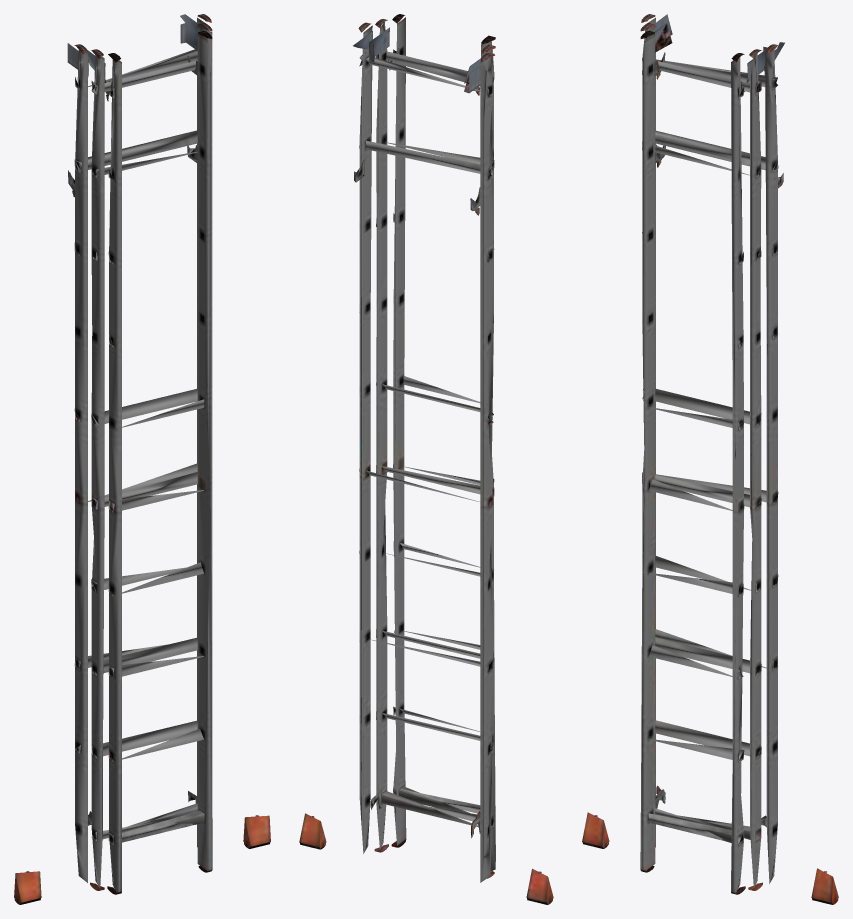
The model's file is ladder-sectioned.lite.a8e456ee.glb.
3 renders of one model, left to right at view 1: azimuth 30°, elevation 25°; view 2: azimuth 150°, elevation 25°; view 3: azimuth 330°, elevation 25°, orthographic.
Parts seen in each view (by area): view 1: model; view 2: model; view 3: model.
Part boxes in pixels (x1,y1,x2,y2): model: (14,14,270,904); model: (299,14,553,904); model: (582,14,838,904).
Bounding box in the file's own units: 0.6615 × 2.13 × 0.177.
Materials: 1 (1 with a texture image).
